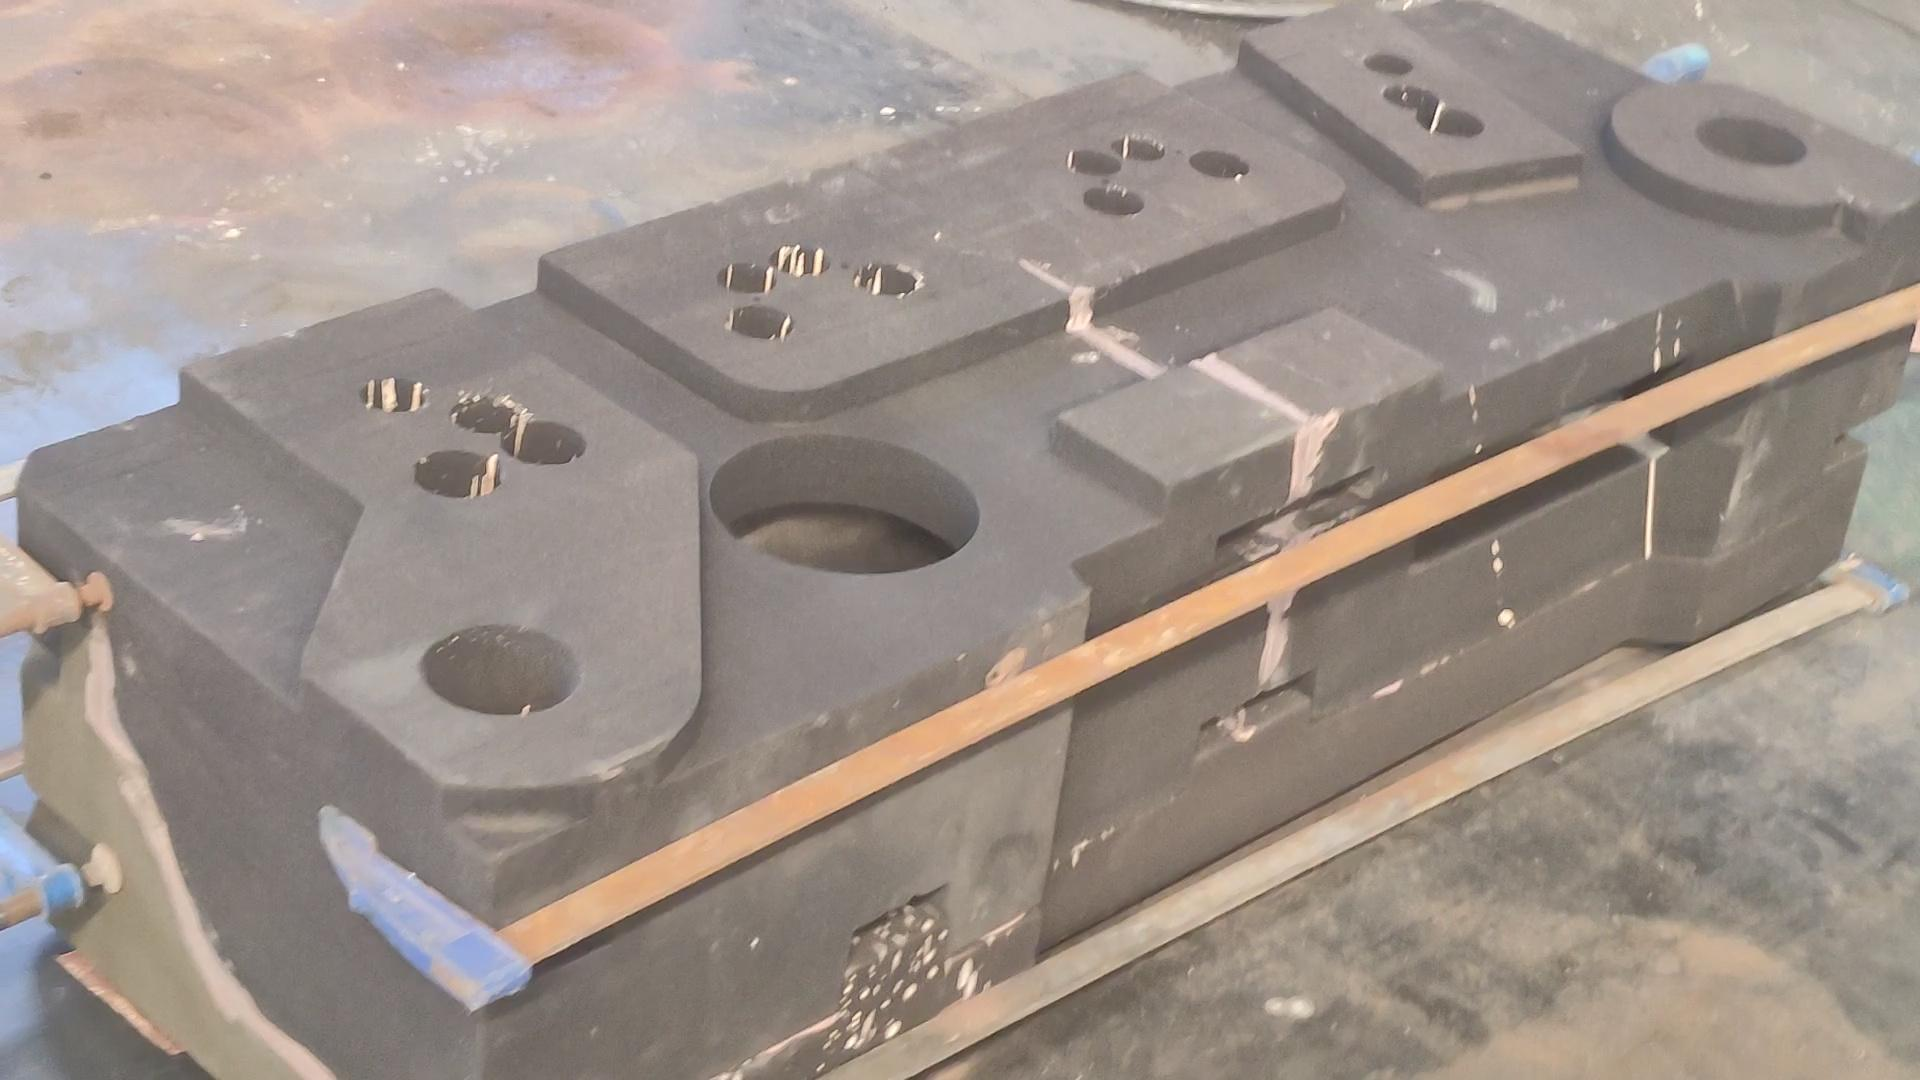pouring hole: (415, 622, 582, 717), (1695, 113, 1808, 166)
